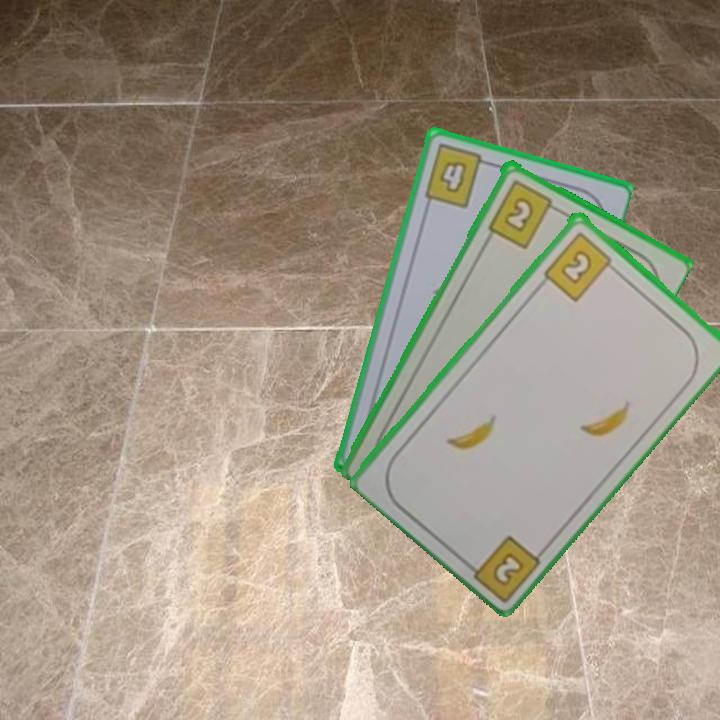2b: (540, 227, 620, 304), (484, 176, 562, 251), (488, 548, 527, 589)
4b: (420, 140, 494, 211)
